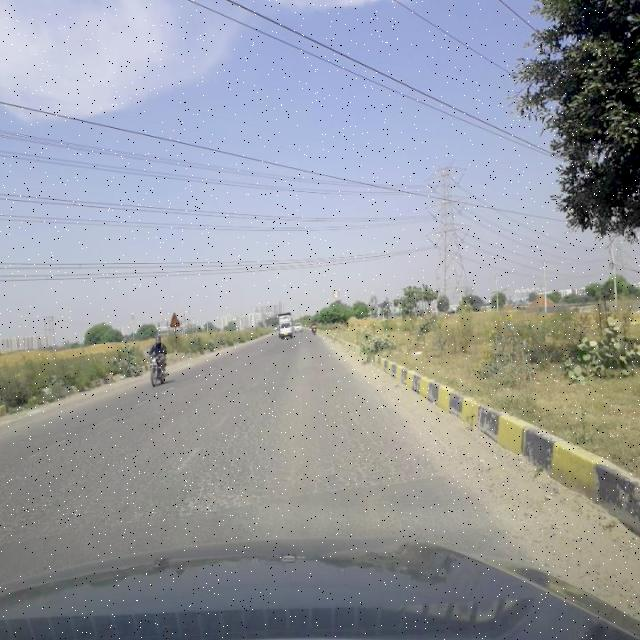D20: (156, 410, 402, 516)
